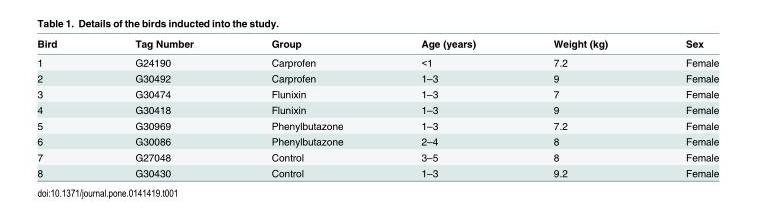table: (36, 37, 718, 178)
table column: (231, 37, 381, 178), (95, 37, 231, 178), (513, 37, 646, 178), (381, 37, 513, 178), (646, 37, 718, 178), (36, 37, 95, 178)
table column header: (36, 37, 718, 52)
table row: (36, 52, 718, 70), (36, 85, 718, 101), (36, 101, 718, 117), (36, 117, 718, 133), (36, 148, 718, 164), (36, 37, 718, 52), (36, 70, 718, 85), (36, 133, 718, 148), (36, 164, 718, 178)
